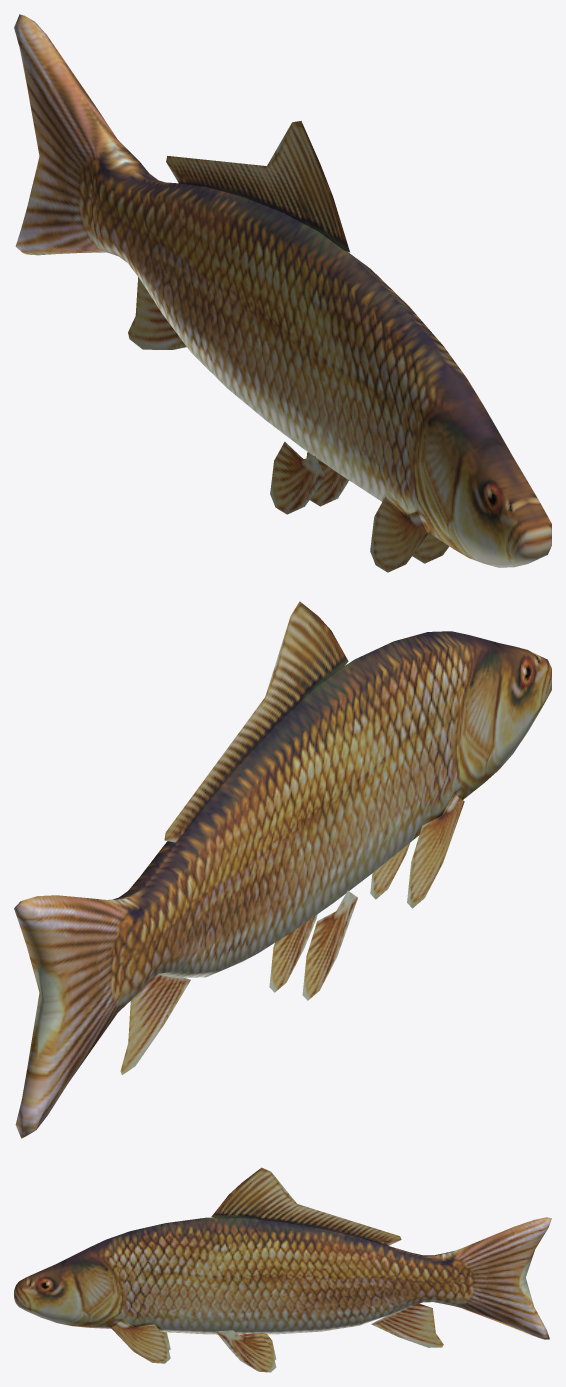
File: fish.glb
3 views of the same model, one above another, from view 1: azimuth 30°, elevation 25°; view 2: azimuth 150°, elevation 25°; view 3: azimuth 270°, elevation 25° (orthographic). The views are drawn at different scales.
Visible parts, largest first — view 1: fish_Cube; view 2: fish_Cube; view 3: fish_Cube.
Part boxes in pixels (<box>): fish_Cube: <box>14,14,551,572</box>; fish_Cube: <box>14,601,551,1138</box>; fish_Cube: <box>14,1167,551,1372</box>.
Bounding box in the file's own units: 0.2435 × 2.09 × 5.06.
Materials: 1 (1 with a texture image).
